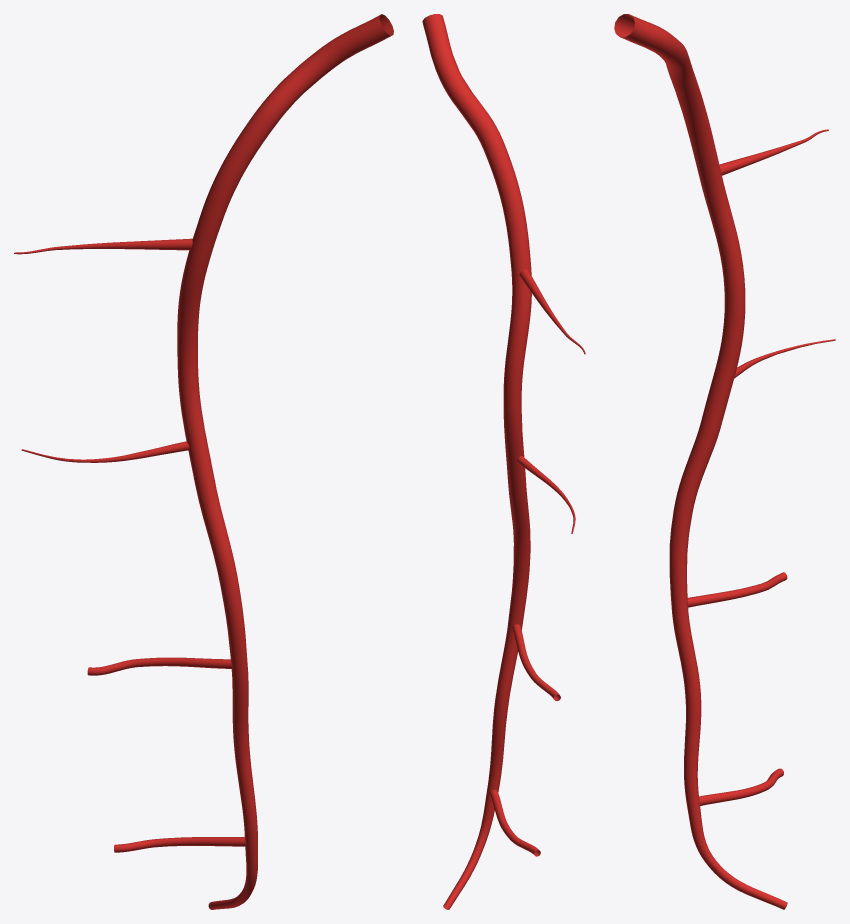
Rendered from circulatorio-deep-femoral-vein-r.glb.
3 views of the same model, side by side, from view 1: azimuth 30°, elevation 25°; view 2: azimuth 150°, elevation 25°; view 3: azimuth 270°, elevation 25° (orthographic). The views are drawn at different scales.
Visible parts, largest first — view 1: Deep femoral vein.r, Perforating veins.r; view 2: Deep femoral vein.r, Perforating veins.r; view 3: Deep femoral vein.r, Perforating veins.r.
Part boxes in pixels (x1,y1,x2,y2): Deep femoral vein.r: (177, 14, 393, 909); Perforating veins.r: (14, 238, 246, 852); Deep femoral vein.r: (422, 14, 531, 909); Perforating veins.r: (489, 269, 585, 856); Deep femoral vein.r: (614, 14, 787, 909); Perforating veins.r: (687, 129, 835, 805).
Size of the model in its own units: 0.0791 by 0.2501 by 0.0534.
